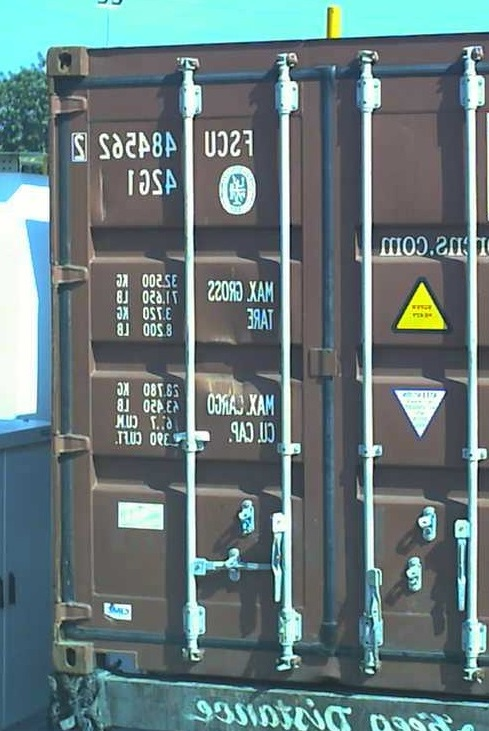container_door: (45, 37, 489, 697)
